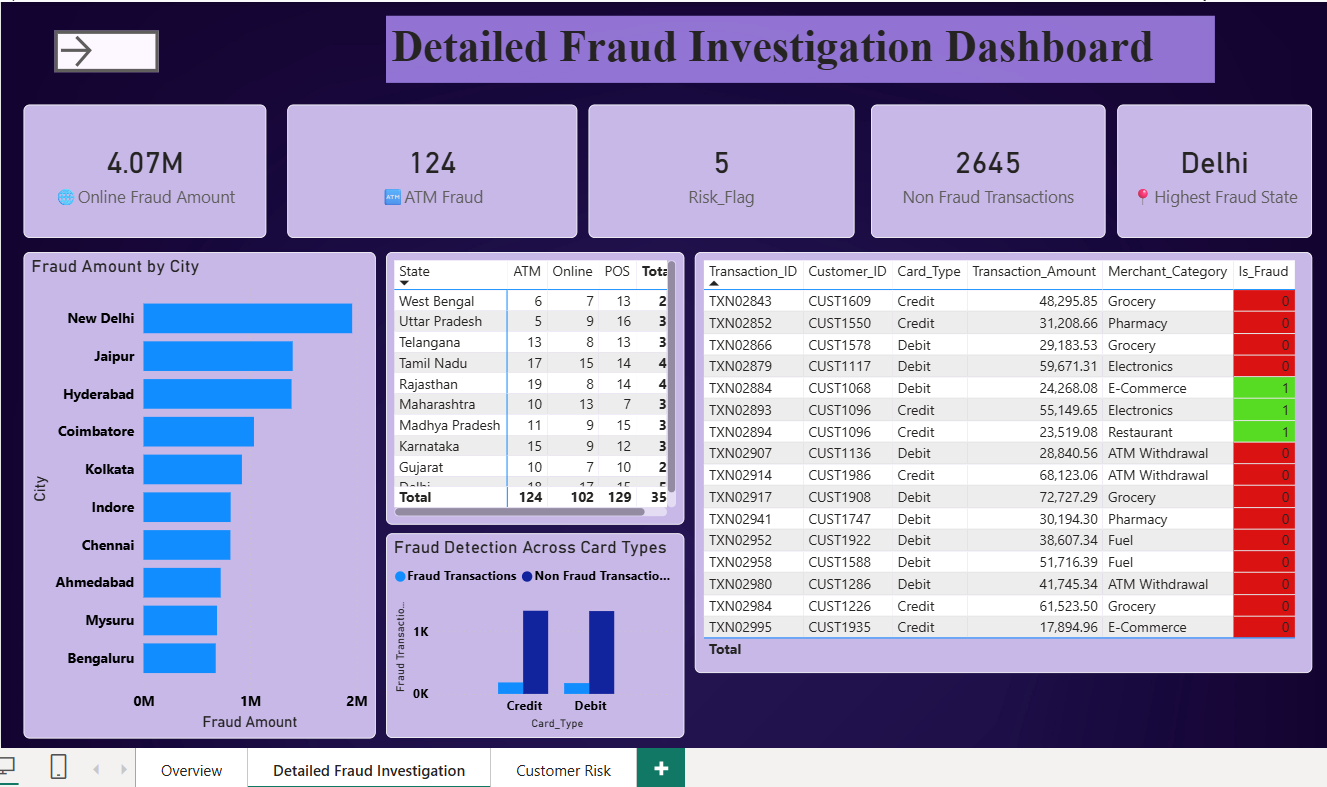

The page's visual inventory and layout, read from the dashboard file:
{"tool":"powerbi","page":{"name":"Detailed Fraud Investigation ","canvas":[1280,720],"ordinal":1},"visuals":[{"type":"textbox","box":[371.9,13.7,800,64.5],"z":0},{"type":"card","fields":{"Values":["Sheet1.Online Fraud Amount"]},"box":[22,98.8,234.6,129],"z":1000},{"type":"card","fields":{"Values":["Sheet1.ATM Fraud"]},"box":[275.8,98.8,279.9,129],"z":2000},{"type":"card","fields":{"Values":["Count(Sheet1.Risk_Flag)"]},"box":[566.7,98.8,256.6,129],"z":3000},{"type":"card","fields":{"Values":["Sheet1.Non Fraud Transactions"]},"box":[839.8,98.8,226.4,129],"z":4000},{"type":"clusteredColumnChart","title":"Fraud Detection Across Card Types","fields":{"Category":["Sheet1.Card_Type"],"Y":["Sheet1.Fraud Transactions","Sheet1.Non Fraud Transactions"]},"box":[371.6,512.7,288.3,197.9],"z":5000},{"type":"barChart","fields":{"Category":["Sheet1.City"],"Y":["Sheet1.Fraud Amount"]},"box":[22,241.5,340.3,469.3],"z":6000},{"type":"pivotTable","fields":{"Rows":["Sheet1.State"],"Columns":["Sheet1.Transaction_Channel"],"Values":["Sheet1.Fraud Transactions"]},"box":[371.9,241.5,288.2,263.5],"z":7000},{"type":"tableEx","fields":{"Values":["Sheet1.Transaction_ID","Sheet1.Customer_ID","Sheet1.Card_Type","Sheet1.Transaction_Amount","Sheet1.Merchant_Category","Sheet1.Is_Fraud"]},"box":[669.6,241.3,596,406.6],"z":8000},{"type":"card","fields":{"Values":["Sheet1.Highest Fraud State"]},"box":[1077.2,98.8,188,129],"z":9000},{"type":"actionButton","box":[52.1,27.4,100.2,39.8],"z":10000}]}

Visuals, with their boxes in screenshot pixels (x1, y1, x2, y2):
textbox: 387,8,1235,76
card - Sheet1.Online Fraud Amount: 16,98,265,235
card - Sheet1.ATM Fraud: 285,98,582,235
card - Count(Sheet1.Risk_Flag): 594,98,866,235
card - Sheet1.Non Fraud Transactions: 883,98,1123,235
"Fraud Detection Across Card Types" clusteredColumnChart: 387,537,693,746
barChart - Sheet1.City x Sheet1.Fraud Amount: 16,249,377,747
pivotTable - Sheet1.State x Sheet1.Transaction_Channel: 387,249,693,528
tableEx - Sheet1.Transaction_ID x Sheet1.Customer_ID: 703,249,1326,680
card - Sheet1.Highest Fraud State: 1135,98,1326,235
actionButton: 48,22,155,64
